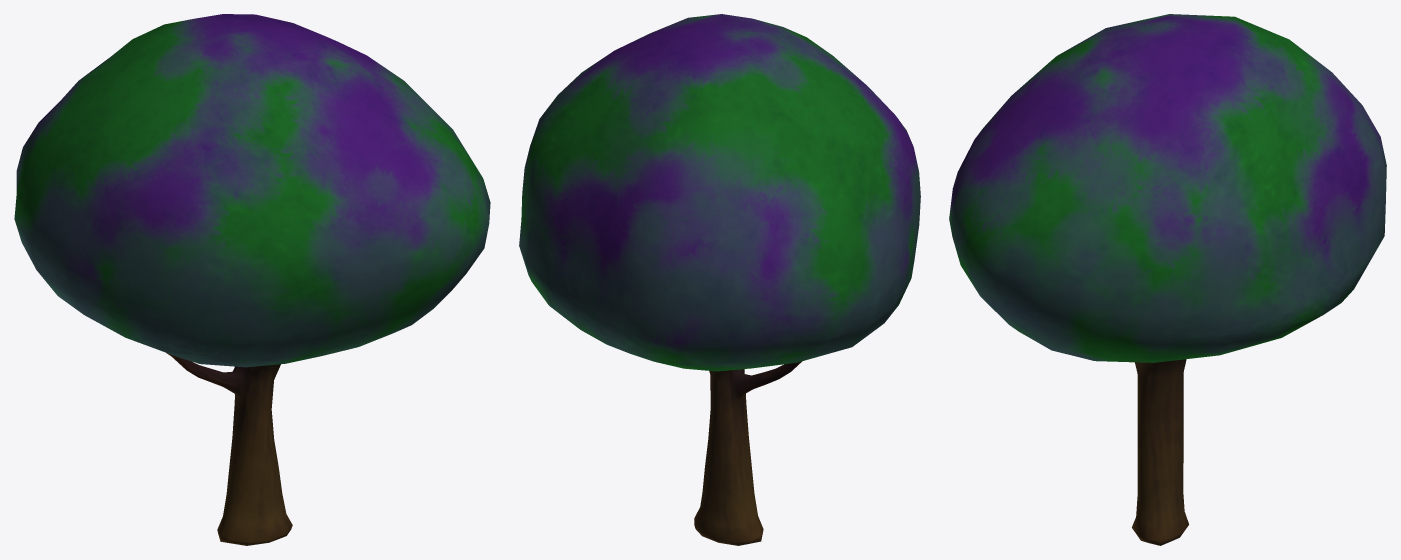
Rendered from Tree_C.fbx.
3 views of the same model, side by side, from view 1: azimuth 30°, elevation 25°; view 2: azimuth 150°, elevation 25°; view 3: azimuth 270°, elevation 25° (orthographic).
Visible parts, largest first — view 1: Tree_C; view 2: Tree_C; view 3: Tree_C.
Part boxes in pixels (x1,y1,x2,y2): Tree_C: (14, 14, 490, 545); Tree_C: (519, 14, 920, 545); Tree_C: (949, 14, 1386, 545).
Bounding box in the file's own units: 177 × 228 × 181.
